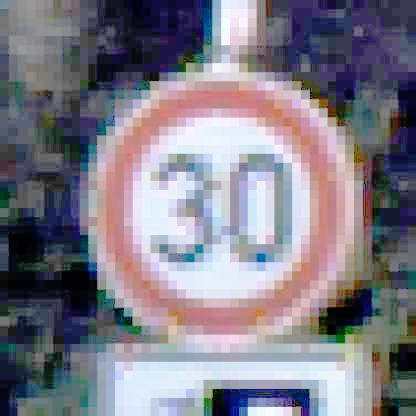Speed Limit -30-: (86, 67, 364, 346)
